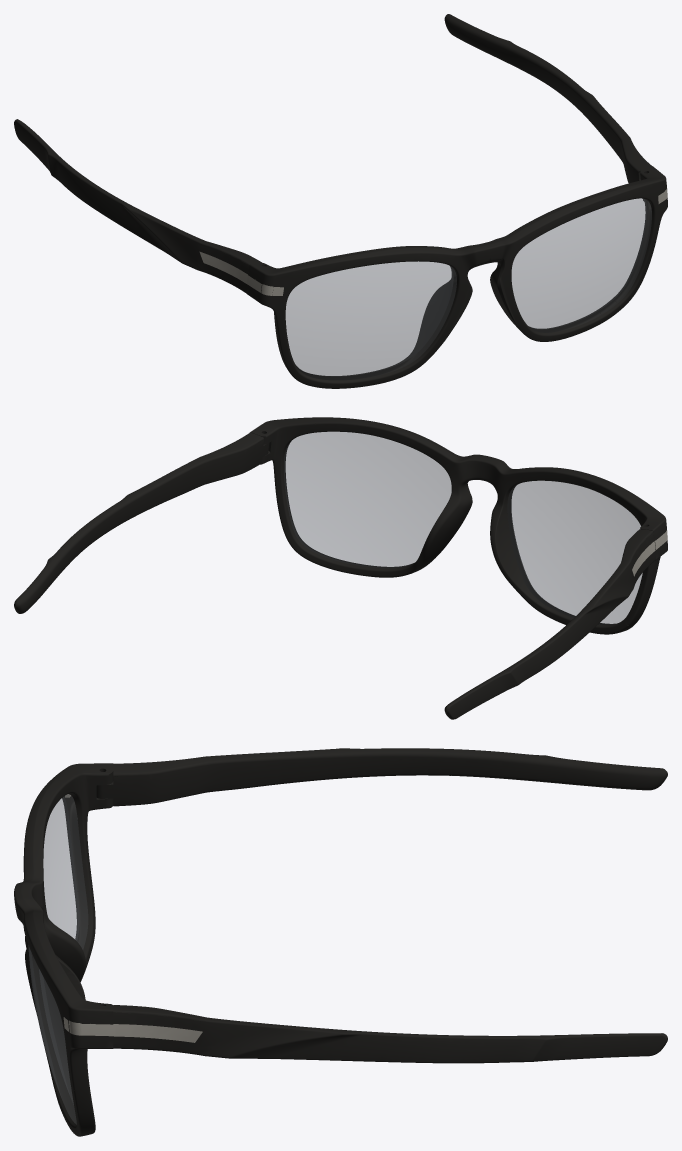
Rendered from ARQP_GREY_K20.glb.
3 renders of one model, top to bottom at view 1: azimuth 30°, elevation 25°; view 2: azimuth 150°, elevation 25°; view 3: azimuth 270°, elevation 25°, orthographic. The views are drawn at different scales.
Parts seen in each view (by area): view 1: Frame, LensR, LensL, TempleR, TempleL; view 2: LensL, Frame, LensR, TempleL, TempleR; view 3: Frame, TempleL, TempleR, LensR, LensL.
Part boxes in pixels (x1,y1,x2,y2): Frame: (246, 166, 667, 388); LensR: (286, 261, 456, 379); LensL: (512, 198, 651, 332); TempleR: (14, 119, 262, 293); TempleL: (444, 14, 651, 183); LensL: (284, 432, 451, 568); Frame: (250, 417, 667, 634); LensR: (507, 481, 642, 624); TempleL: (14, 432, 263, 613); TempleR: (444, 529, 655, 719); Frame: (14, 763, 115, 1136); TempleL: (113, 1005, 667, 1063); TempleR: (113, 748, 667, 806); LensR: (43, 794, 87, 948); LensL: (29, 947, 76, 1123).
Bounding box in the file's own units: 0.1671 × 0.048 × 0.1586.
3 materials, 3 textured.
